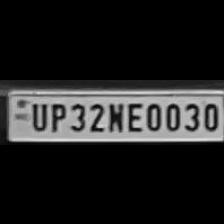0: (200, 100, 220, 130), (144, 100, 162, 130), (163, 100, 181, 130)
2: (86, 100, 106, 132)
3: (66, 99, 86, 131), (181, 99, 199, 131)
E: (124, 99, 142, 131)
N: (104, 98, 124, 132)
P: (46, 99, 66, 130)
U: (27, 98, 47, 130)
